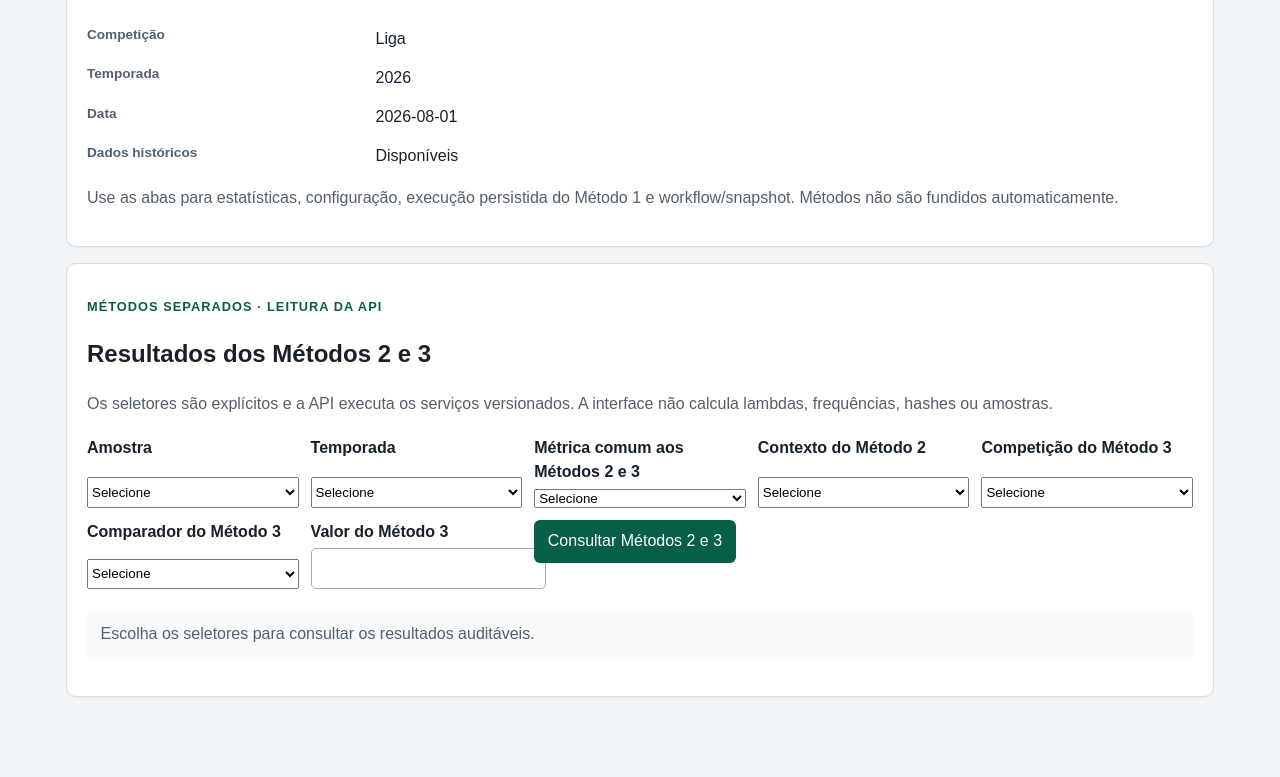
it: MatchCenter › shows a local validation state rather than inventing selectors
The image size is (1280, 777).
(page scrolled)
Click the button "Consultar Métodos 2 e 3" at (635, 541), box x1=534 y1=520 x2=736 y2=563
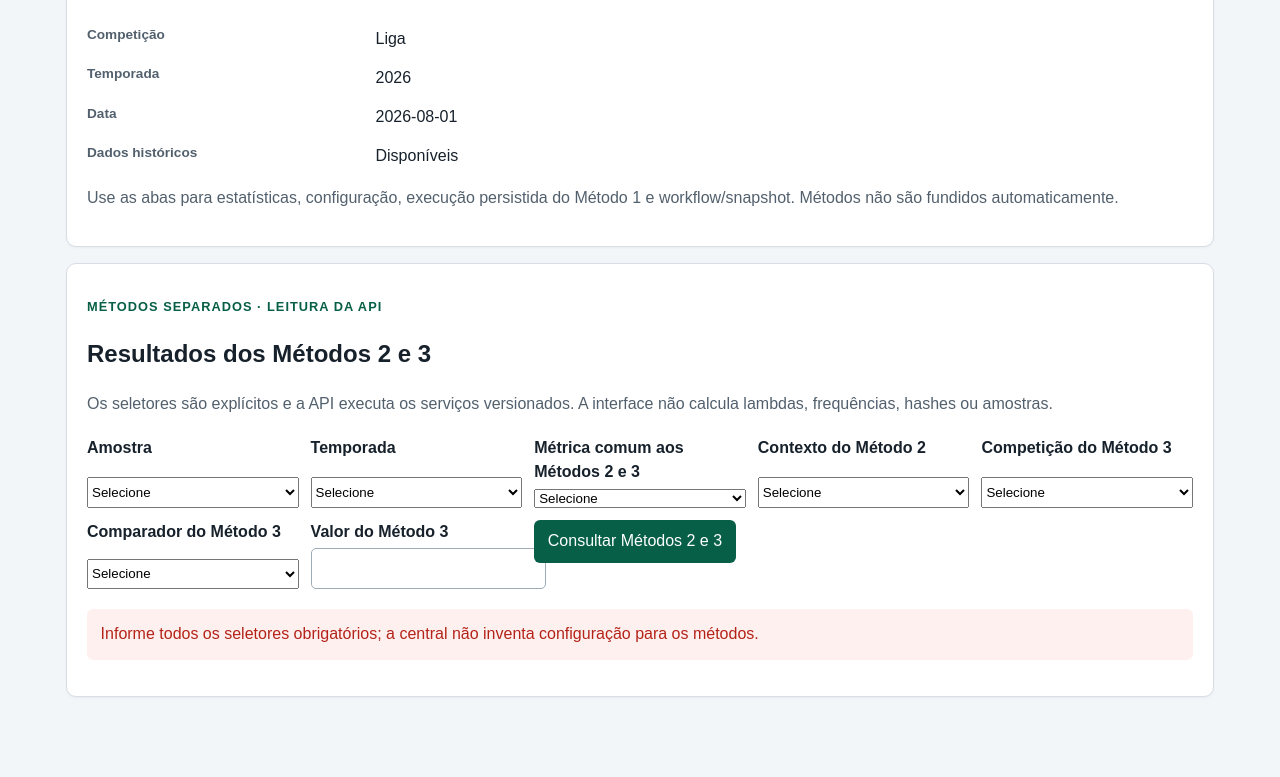
Check: the message shows "não inventa configuração", box x1=101 y1=625 x2=759 y2=642
